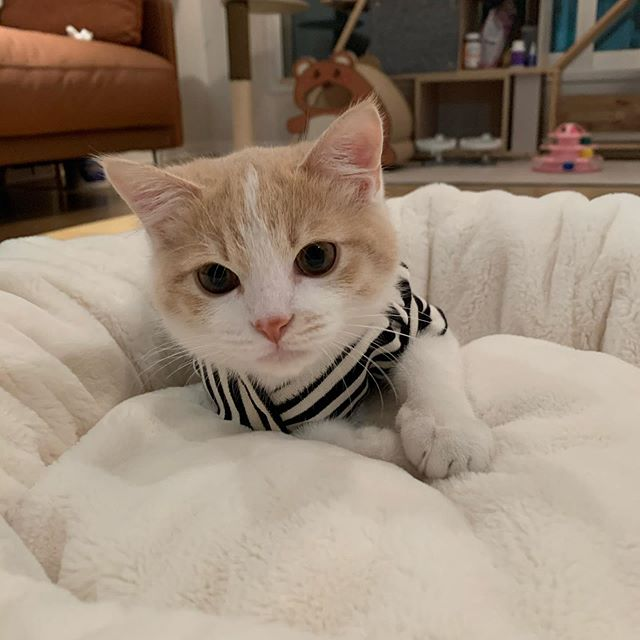cat: (93, 96, 397, 388)
